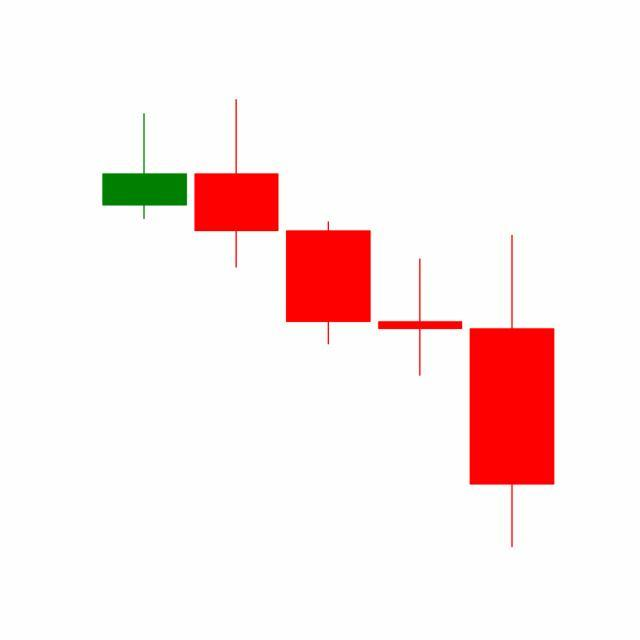Spinning Top: (374, 258, 468, 378)
